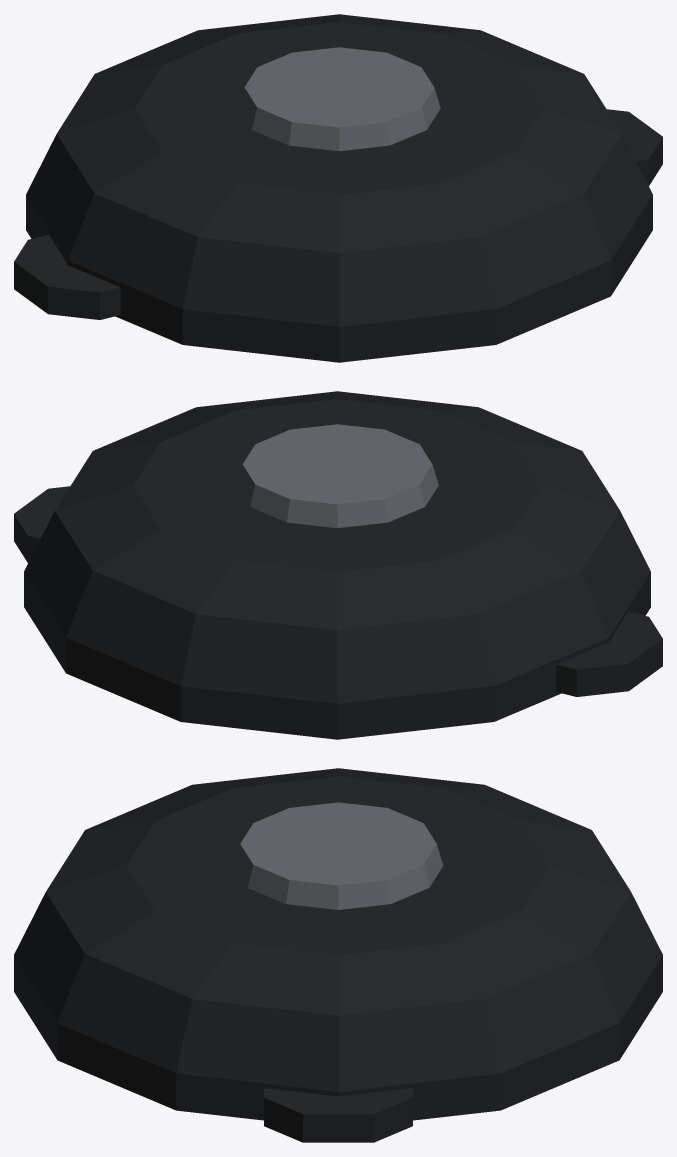
Rendered from Mine.fbx.
The picture shows the model from 3 angles, top to bottom: view 1: azimuth 30°, elevation 25°; view 2: azimuth 150°, elevation 25°; view 3: azimuth 270°, elevation 25°; orthographic projection. The views are drawn at different scales.
Visible parts, largest first — view 1: Mine; view 2: Mine; view 3: Mine.
Boxes of the visible parts, x1=… form: Mine: x1=14, y1=14, x2=662, y2=362; Mine: x1=14, y1=391, x2=662, y2=739; Mine: x1=14, y1=768, x2=662, y2=1142.
Size of the model in its own units: 0.3445 by 0.0765 by 0.3042.
